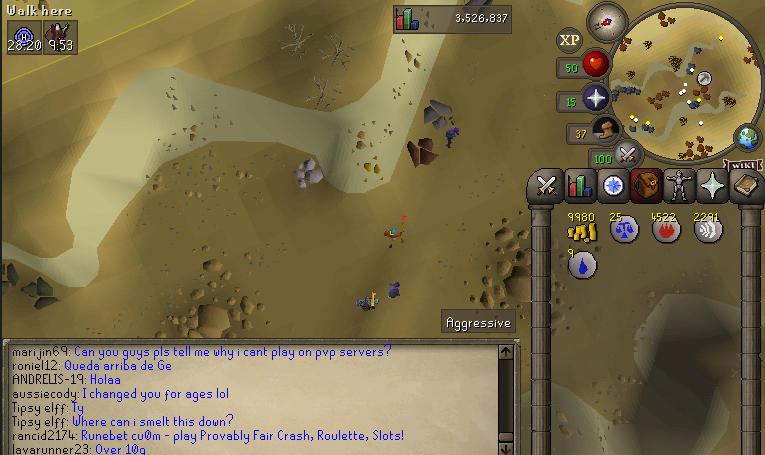depleted: (418, 95, 456, 131), (457, 1, 499, 24)
iron: (405, 131, 440, 172)
